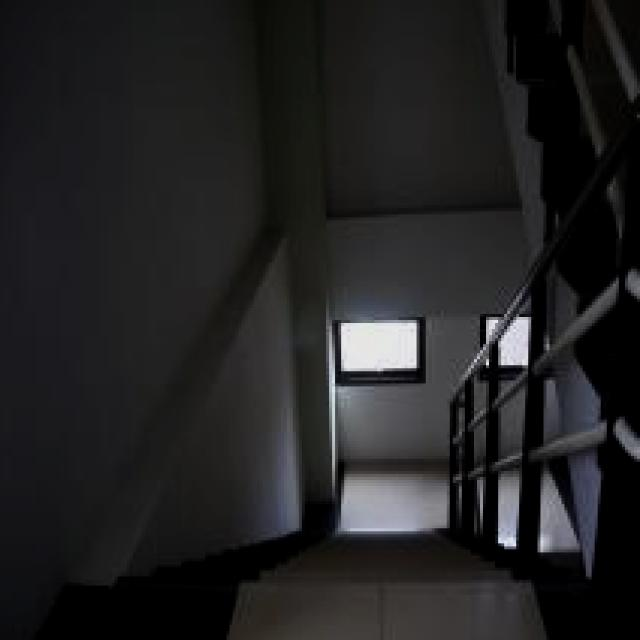downstair: (155, 445, 572, 640)
